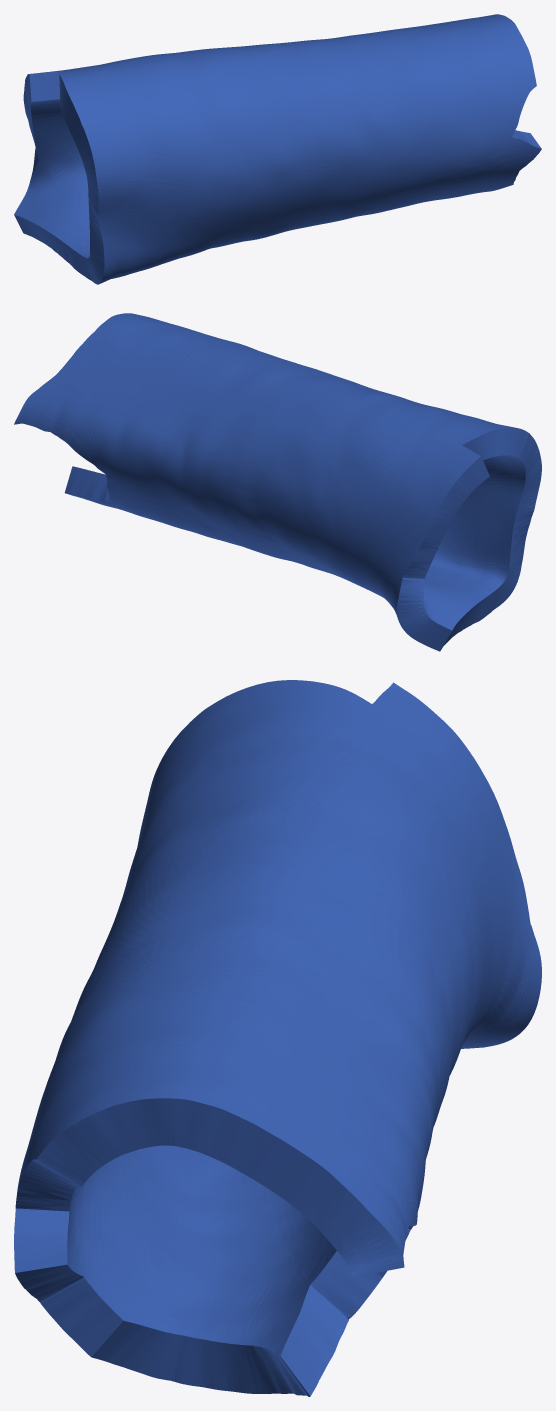
File: IM_Medium0.5xMesh.obj
The picture shows the model from 3 angles, top to bottom: view 1: azimuth 30°, elevation 25°; view 2: azimuth 150°, elevation 25°; view 3: azimuth 270°, elevation 25°; orthographic projection. The views are drawn at different scales.
Visible parts, largest first — view 1: Body1; view 2: Body1; view 3: Body1.
Boxes of the visible parts, x1=… form: Body1: x1=14, y1=14, x2=541, y2=284; Body1: x1=14, y1=313, x2=541, y2=651; Body1: x1=14, y1=680, x2=541, y2=1396.
Bounding box in the file's own units: 0.1219 × 0.0484 × 0.0623.
